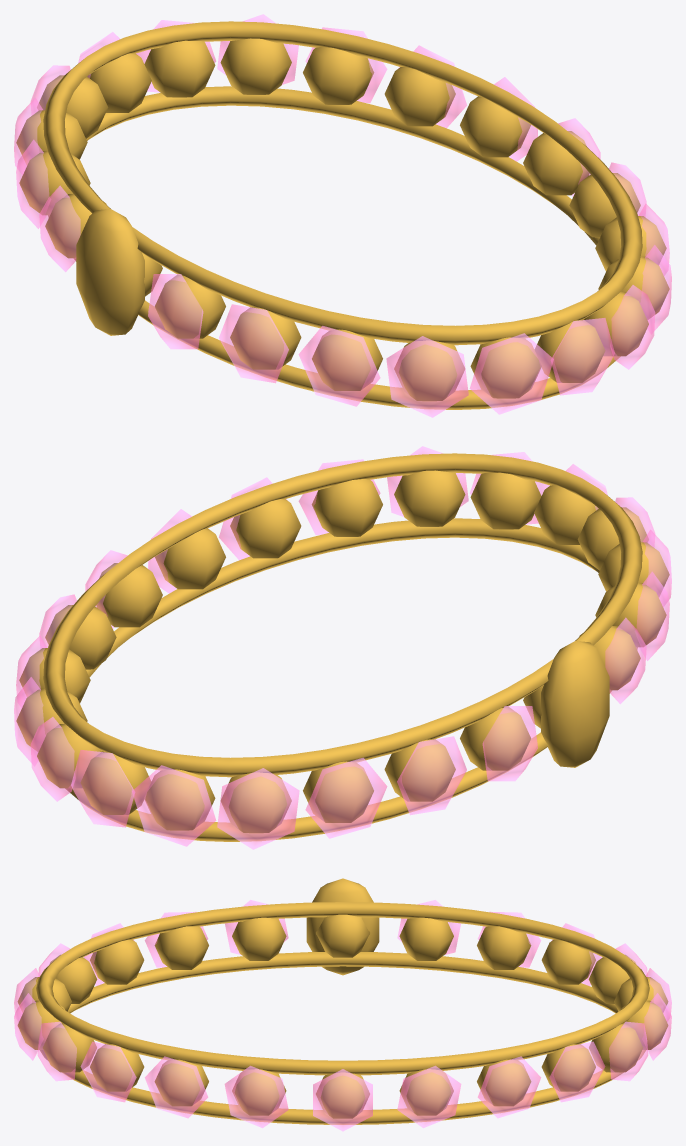
The model's file is tennis_bracelet.glb.
The picture shows the model from 3 angles, top to bottom: view 1: azimuth 30°, elevation 25°; view 2: azimuth 150°, elevation 25°; view 3: azimuth 270°, elevation 25°; orthographic projection. The views are drawn at different scales.
Visible parts, largest first — view 1: tennis_bracelet; view 2: tennis_bracelet; view 3: tennis_bracelet.
Boxes of the visible parts, left/top/right/bottom form: tennis_bracelet: left=14, top=14, right=671, bottom=417; tennis_bracelet: left=14, top=446, right=671, bottom=849; tennis_bracelet: left=14, top=878, right=671, bottom=1131.
Bounding box in the file's own units: 0.0488 × 0.0118 × 0.0722.
